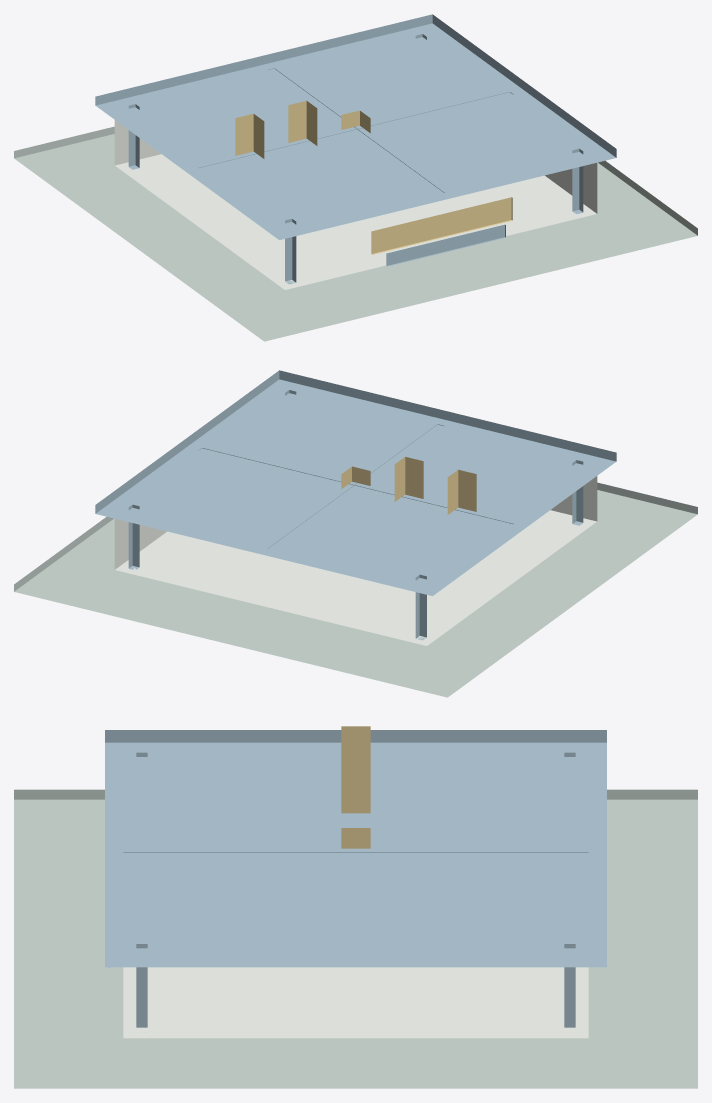
Rendered from electronics_store.glb.
3 views of the same model, one above another, from view 1: azimuth 30°, elevation 25°; view 2: azimuth 150°, elevation 25°; view 3: azimuth 270°, elevation 25° (orthographic). The views are drawn at different scales.
Visible parts, largest first — view 1: Roof, Foundation, Walls, Details, Frame; view 2: Roof, Foundation, Walls, Details, Frame; view 3: Roof, Foundation, Walls, Details, Frame.
Boxes of the visible parts, left/top/right/bottom form: Roof: left=95, top=14, right=616, bottom=239; Foundation: left=14, top=126, right=697, bottom=341; Walls: left=114, top=120, right=597, bottom=289; Details: left=235, top=100, right=512, bottom=266; Frame: left=128, top=34, right=583, bottom=284; Roof: left=95, top=370, right=616, bottom=595; Foundation: left=14, top=482, right=697, bottom=697; Walls: left=114, top=476, right=597, bottom=645; Details: left=341, top=456, right=476, bottom=514; Frame: left=128, top=390, right=583, bottom=640; Roof: left=105, top=730, right=606, bottom=967; Foundation: left=14, top=789, right=697, bottom=1088; Walls: left=123, top=967, right=588, bottom=1038; Details: left=108, top=726, right=370, bottom=968; Frame: left=123, top=752, right=588, bottom=1027.
Bounding box in the file's own units: 40 × 9.1 × 40.
